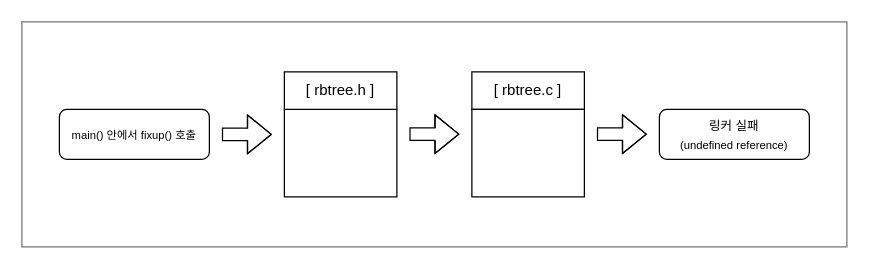
Some shapes in this 869 by 269 pixel diagram are drawn without their labels. The shapes that lost their labels are listed below. From the top down, each one's box as (x1, y1, x2, y2) in pixels, then its label:
(283, 108, 397, 197): void fixup(); (선언만 존재)
(471, 108, 584, 197): 정의 없음
